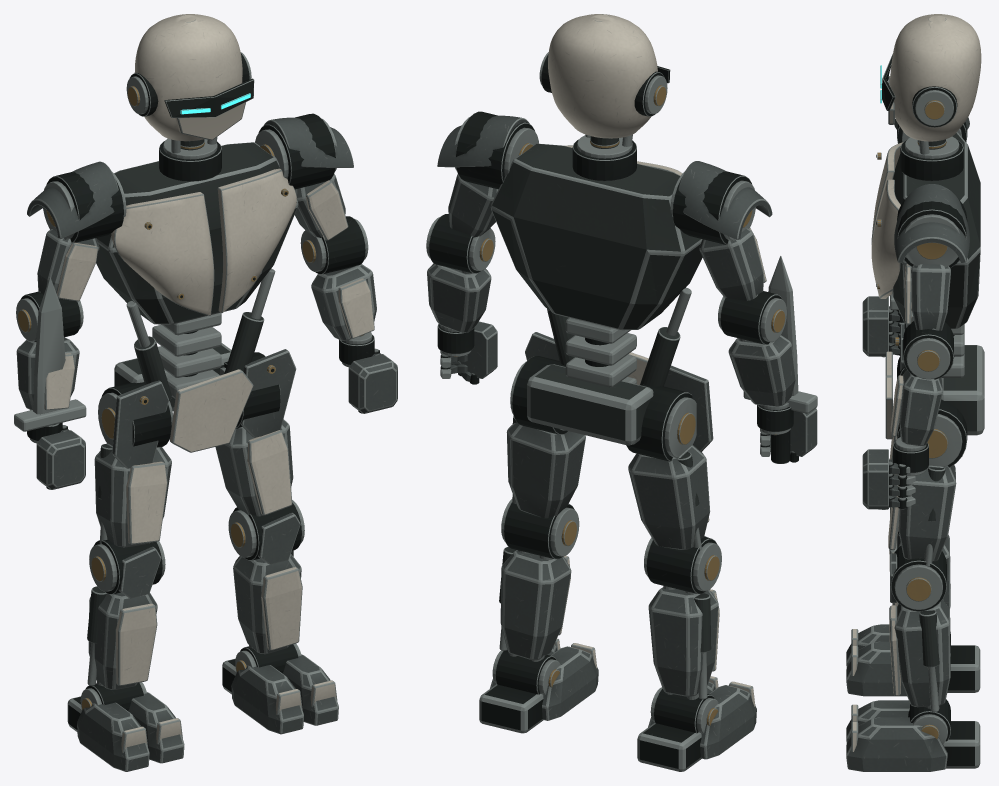
File: speed-t1-duelist.glb
The picture shows the model from 3 angles, left to right: view 1: azimuth 30°, elevation 25°; view 2: azimuth 150°, elevation 25°; view 3: azimuth 270°, elevation 25°; orthographic projection. The views are drawn at different scales.
Visible parts, largest first — view 1: chest__clay, pelvis__metal, chest__metal, pelvis__clay, head__clay, kneeL__clay, kneeR__clay, ankleL__clay, ankleR__clay, shoulderR__clay, hipR__clay, hipL__clay (+16 smaller); view 2: chest__metal, pelvis__metal, head__clay, shoulderR__clay, kneeL__clay, hipR__clay, hipL__clay, kneeR__clay, ankleL__metal, ankleR__metal, shoulderL__clay, kneeR__metal (+16 smaller); view 3: head__clay, chest__metal, ankleL__clay, shoulderL__clay, pelvis__metal, kneeL__clay, hipL__clay, kneeL__metal, ankleR__clay, chest__clay, elbowL__clay, ankleL__metal (+12 smaller).
Boxes of the visible parts, left/top/right/bottom form: chest__clay: left=111, top=168, right=296, bottom=315; pelvis__metal: left=98, top=268, right=280, bottom=447; chest__metal: left=96, top=138, right=298, bottom=324; pelvis__clay: left=112, top=349, right=296, bottom=468; head__clay: left=134, top=14, right=245, bottom=141; kneeL__clay: left=233, top=512, right=302, bottom=654; kneeR__clay: left=88, top=546, right=161, bottom=689; ankleL__clay: left=231, top=654, right=338, bottom=734; ankleR__clay: left=77, top=692, right=184, bottom=771; shoulderR__clay: left=27, top=161, right=118, bottom=301; hipR__clay: left=94, top=443, right=171, bottom=547; hipL__clay: left=215, top=419, right=293, bottom=516; chest__metal: left=490, top=135, right=702, bottom=330; pelvis__metal: left=510, top=287, right=696, bottom=461; head__clay: left=548, top=14, right=657, bottom=138; shoulderR__clay: left=678, top=161, right=772, bottom=300; kneeL__clay: left=500, top=550, right=571, bottom=659; hipR__clay: left=628, top=445, right=710, bottom=549; hipL__clay: left=506, top=422, right=585, bottom=518; kneeR__clay: left=648, top=536, right=719, bottom=696; ankleL__metal: left=479, top=650, right=560, bottom=733; ankleR__metal: left=637, top=687, right=718, bottom=771; shoulderL__clay: left=437, top=115, right=529, bottom=237; kneeR__metal: left=644, top=537, right=721, bottom=699; head__clay: left=888, top=14, right=981, bottom=141; chest__metal: left=876, top=132, right=980, bottom=328; ankleL__clay: left=846, top=700, right=947, bottom=771; shoulderL__clay: left=894, top=184, right=969, bottom=330; pelvis__metal: left=894, top=311, right=984, bottom=467; kneeL__clay: left=889, top=553, right=950, bottom=707; hipL__clay: left=888, top=465, right=956, bottom=561; kneeL__metal: left=890, top=546, right=946, bottom=712; ankleR__clay: left=846, top=624, right=906, bottom=696; chest__clay: left=871, top=142, right=903, bottom=298; elbowL__clay: left=890, top=370, right=942, bottom=446; ankleL__metal: left=908, top=699, right=980, bottom=768.
Bounding box in the file's own units: 2.4 × 4.41 × 0.7889.
11 materials, 10 textured.
